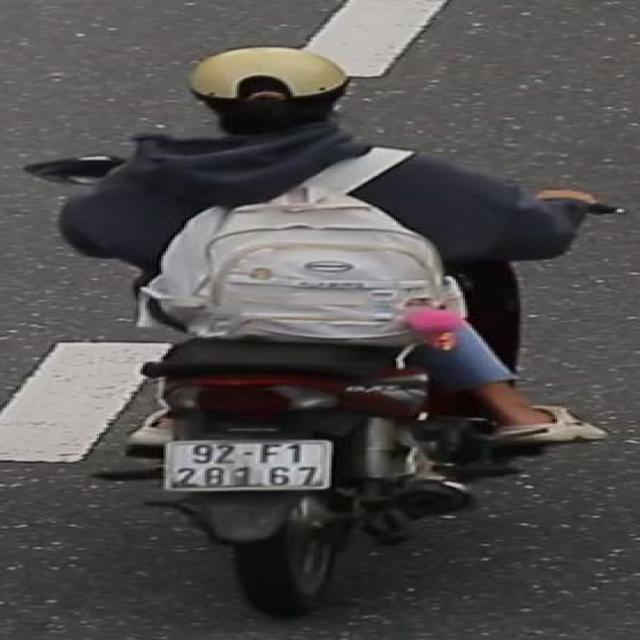LP: (161, 434, 343, 499)
helmet: (182, 43, 359, 151)
